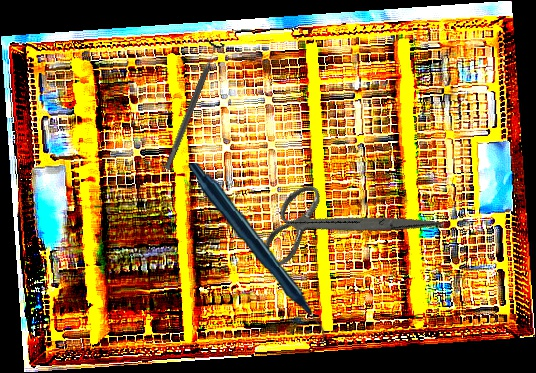Fixation Ring: (156, 37, 227, 173)
Handpiece: (186, 158, 328, 349)
Iris Scissors: (243, 132, 442, 320)
